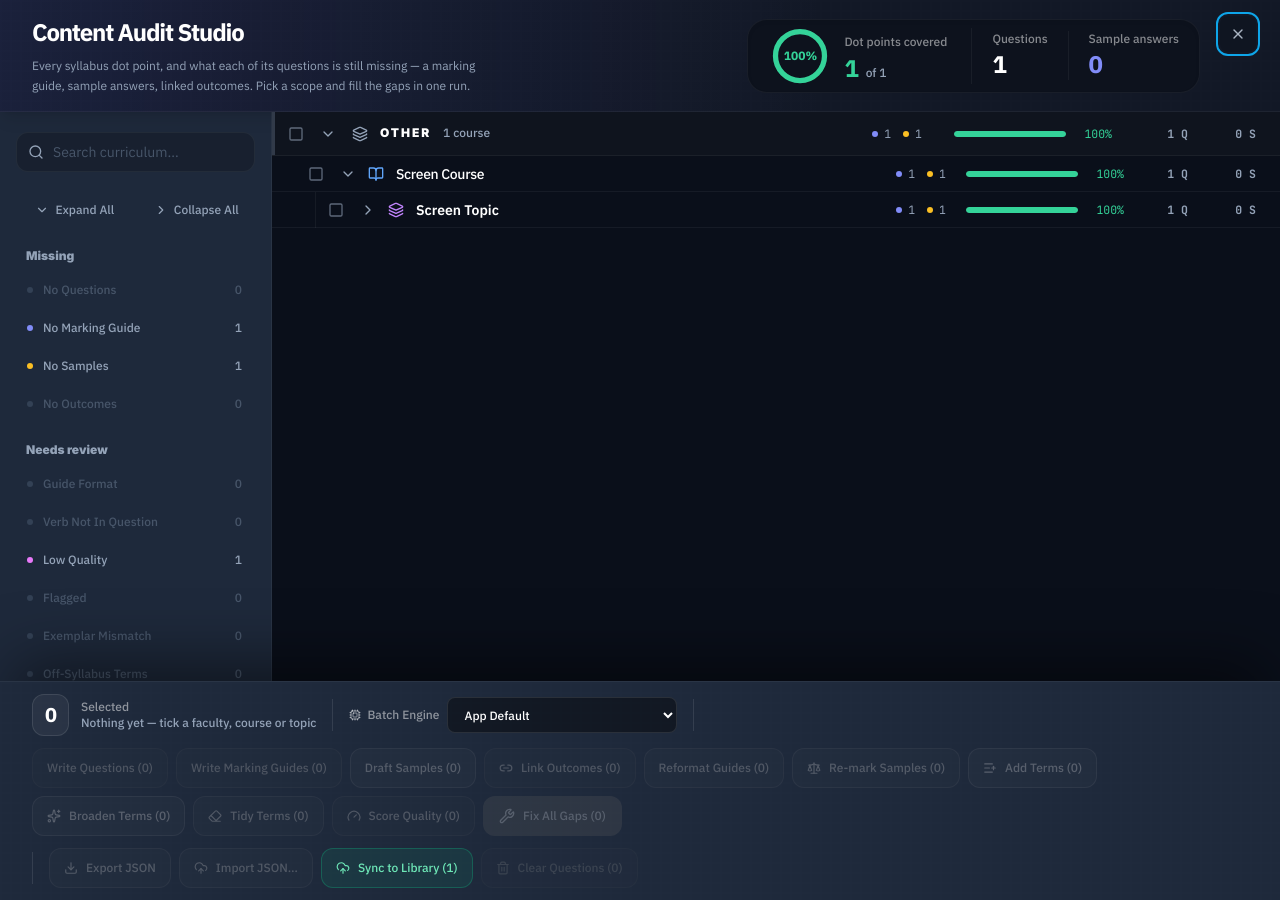
Test: Content Audit Studio — AI quality screening › flags already-scored low-quality content with a badge and filter chip
Check: the button "Low Quality 1" is shown, box [16,542,255,578]
# …and the inline badge appears once the tree is expanded to the prompt.
Click the button "Expand All".
click(75, 210)  # box [16,192,134,228]
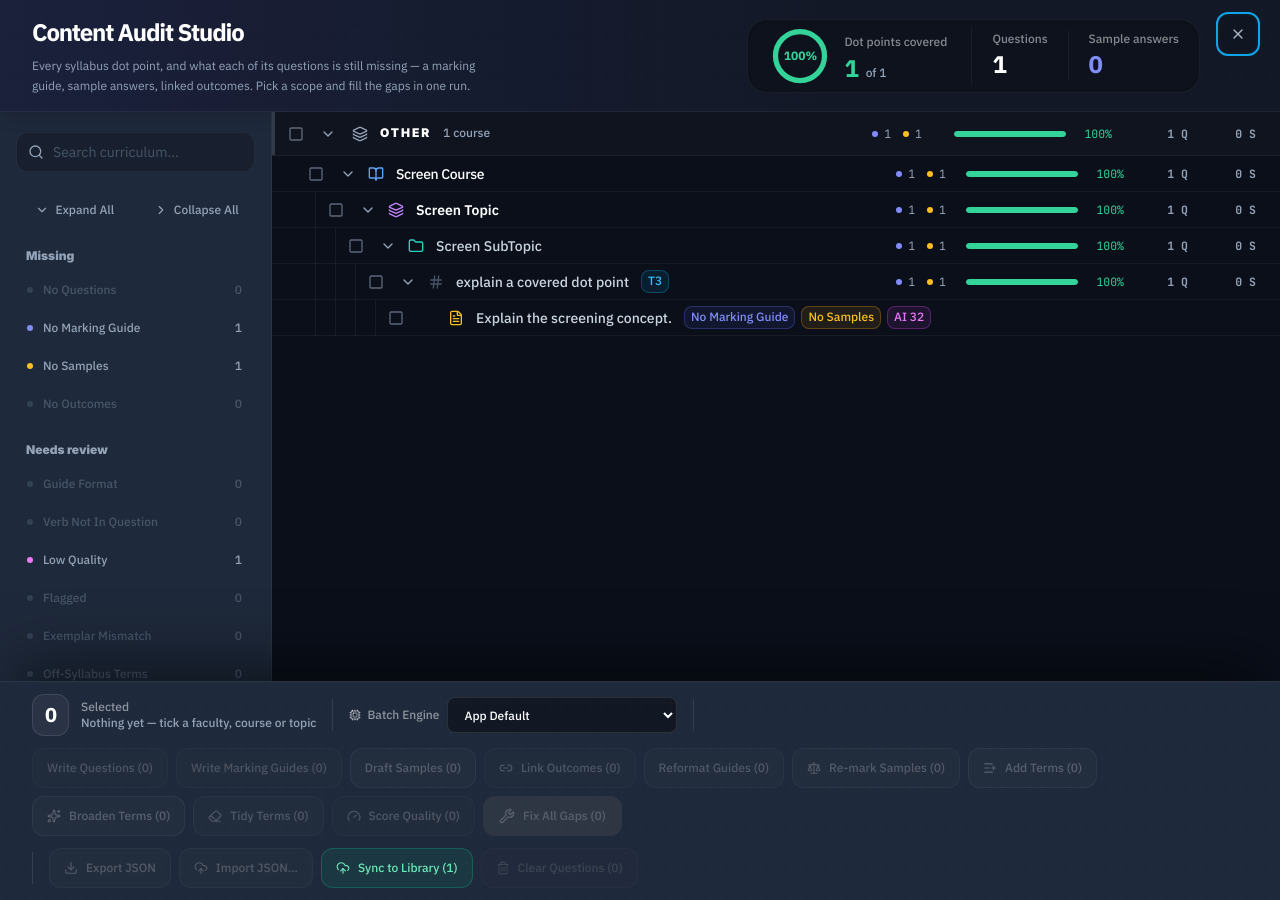
Check: the text "AI 32" is shown, box [887,306,931,329]
